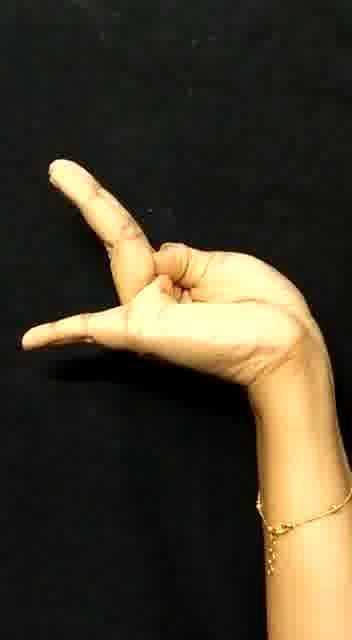chatur: (23, 142, 337, 424)
